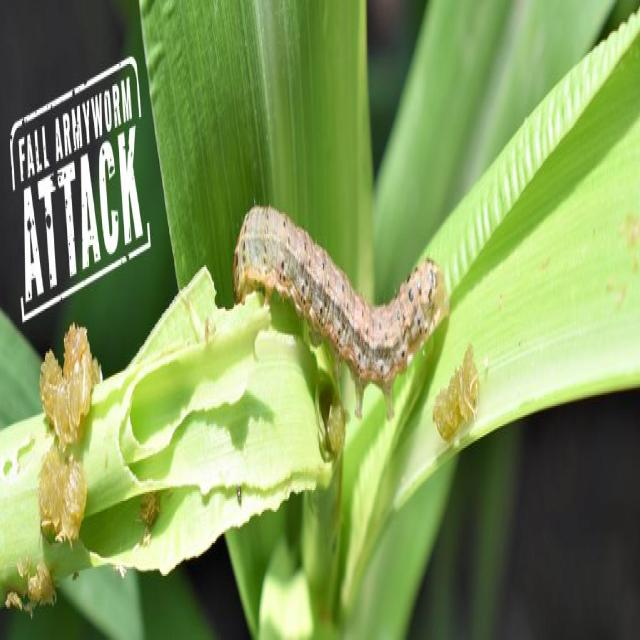Army Worm: (232, 196, 462, 398)
